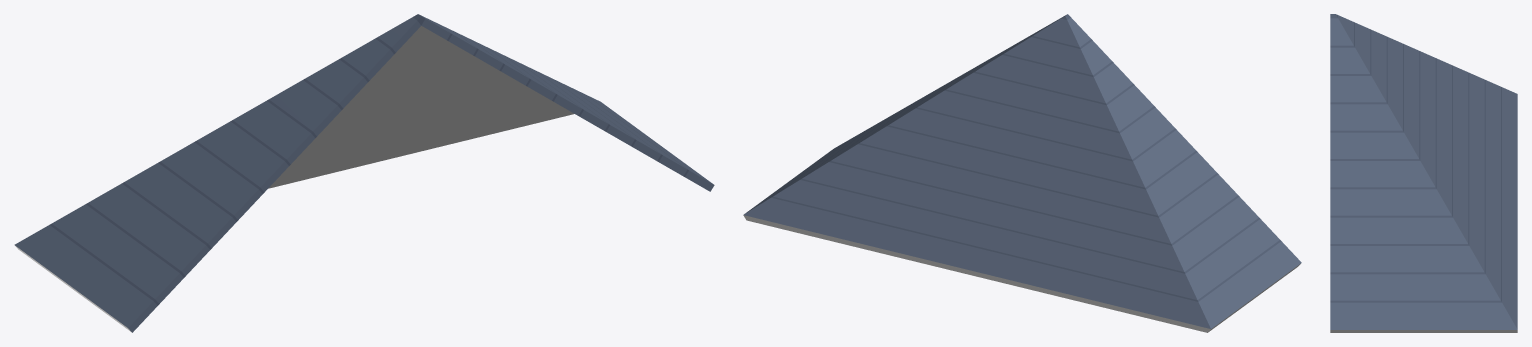
Rendered from Roof2_C4_02.fbx.
The picture shows the model from 3 angles, left to right: view 1: azimuth 30°, elevation 25°; view 2: azimuth 150°, elevation 25°; view 3: azimuth 270°, elevation 25°; orthographic projection. The views are drawn at different scales.
Visible parts, largest first — view 1: Roof2_C4_02; view 2: Roof2_C4_02; view 3: Roof2_C4_02.
Boxes of the visible parts, x1,y1,x2,y2 form: Roof2_C4_02: (14,14,714,332); Roof2_C4_02: (743,14,1301,332); Roof2_C4_02: (1330,14,1517,332).
Bounding box in the file's own units: 833 × 334 × 280.
